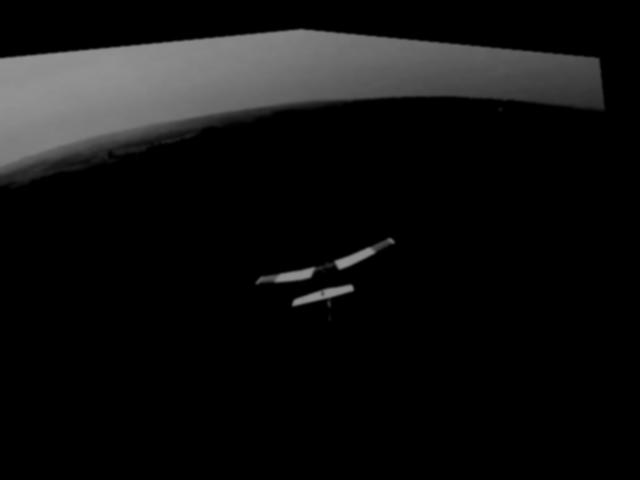hedef: (245, 211, 414, 342)
